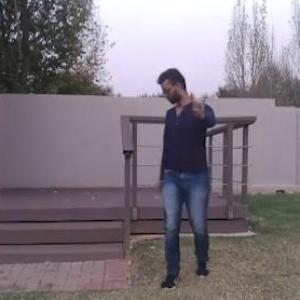takeoff-hand: (186, 83, 214, 117)
